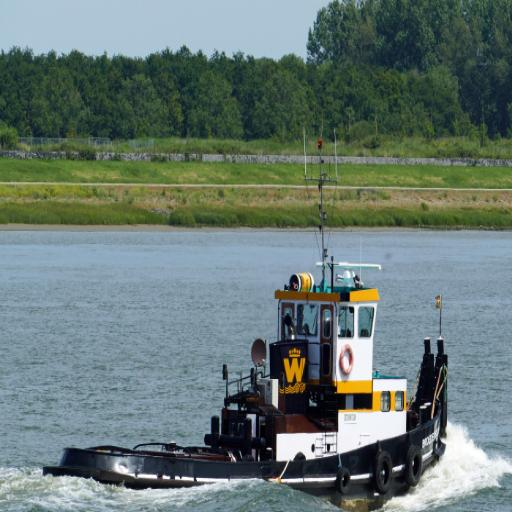tugboat: (41, 123, 455, 512)
